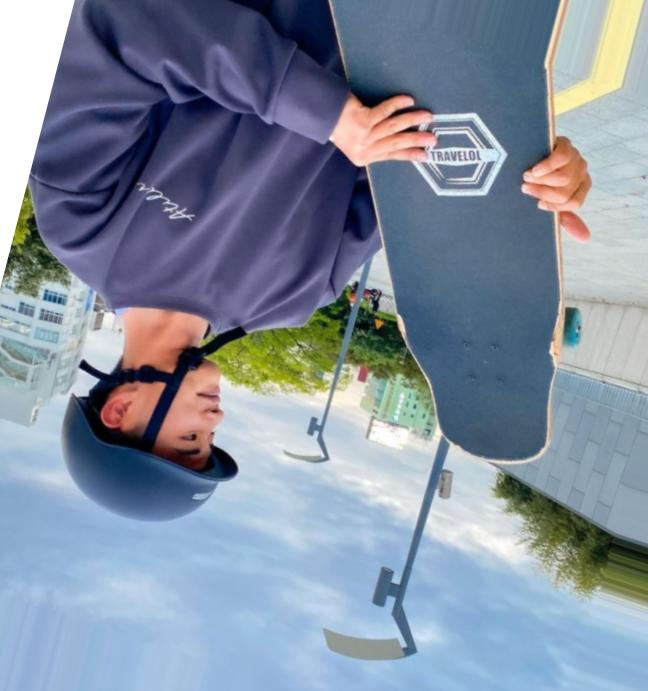with helmet: (61, 353, 239, 525)
